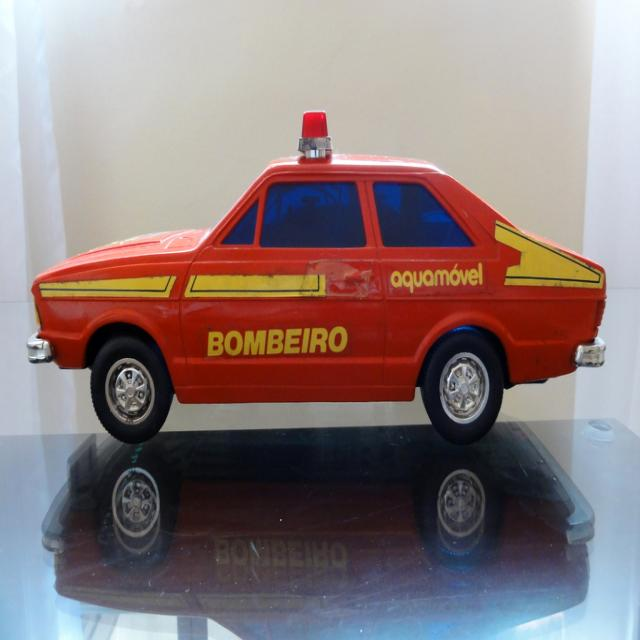car: (25, 110, 607, 443)
